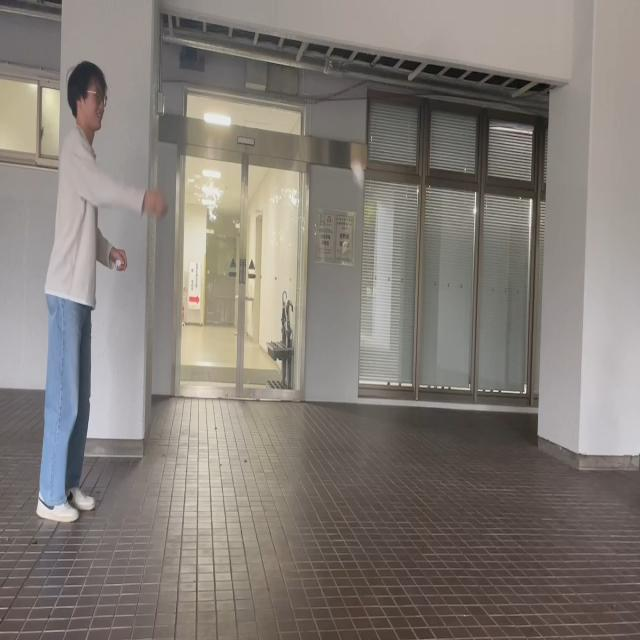paper: (348, 154, 366, 191), (113, 255, 123, 272)
